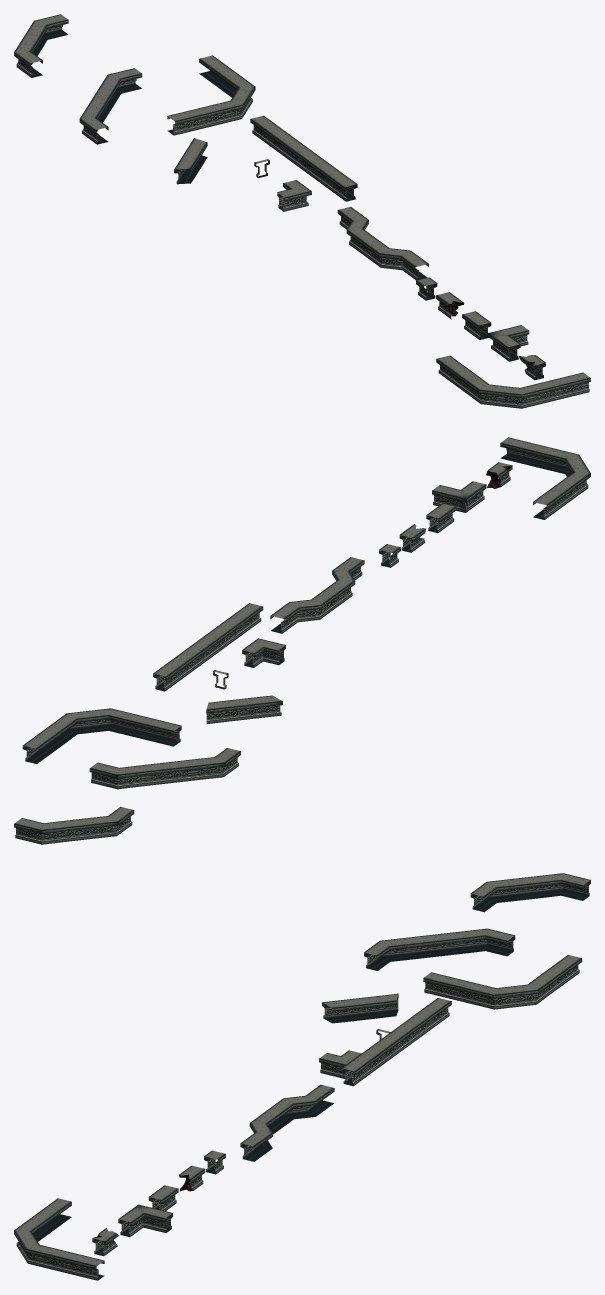
The model's file is EnvMdrMD_Daiseidou_B_GrdLine_A_CoIn_A.FBX.
3 renders of one model, top to bottom at view 1: azimuth 30°, elevation 25°; view 2: azimuth 150°, elevation 25°; view 3: azimuth 330°, elevation 25°, orthographic. The views are drawn at different scales.
Visible parts, largest first — view 1: EnvMdrMD_Daiseidou_B_GrdLine_A_Slant_D_R, EnvMdrMD_Daiseidou_B_GrdLine_A_Slant_D, EnvMdrMD_Daiseidou_B_GrdLine_A_Loop_Spline, EnvMdrMD_Daiseidou_B_GrdLine_A_Slant_E, EnvMdrMD_Daiseidou_B_GrdLine_A_Slant_B, EnvMdrMD_Daiseidou_B_GrdLine_A_Slant_A, EnvMdrMD_Daiseidou_B_GrdLine_A_CoOut_A, EnvMdrMD_Daiseidou_B_GrdLine_A_Slant_C, EnvMdrMD_Daiseidou_B_GrdLine_A_CoIn_A, EnvMdrMD_Daiseidou_B_GrdLine_A_Loop_200W; view 2: EnvMdrMD_Daiseidou_B_GrdLine_A_Slant_D, EnvMdrMD_Daiseidou_B_GrdLine_A_Slant_B, EnvMdrMD_Daiseidou_B_GrdLine_A_Slant_D_R, EnvMdrMD_Daiseidou_B_GrdLine_A_Loop_Spline, EnvMdrMD_Daiseidou_B_GrdLine_A_Slant_A, EnvMdrMD_Daiseidou_B_GrdLine_A_Slant_E, EnvMdrMD_Daiseidou_B_GrdLine_A_Slant_C, EnvMdrMD_Daiseidou_B_GrdLine_A_CoOut_A, EnvMdrMD_Daiseidou_B_GrdLine_A_CoIn_A, EnvMdrMD_Daiseidou_B_GrdLine_A_Loop_200W; view 3: EnvMdrMD_Daiseidou_B_GrdLine_A_Slant_D, EnvMdrMD_Daiseidou_B_GrdLine_A_Slant_B, EnvMdrMD_Daiseidou_B_GrdLine_A_Slant_D_R, EnvMdrMD_Daiseidou_B_GrdLine_A_Loop_Spline, EnvMdrMD_Daiseidou_B_GrdLine_A_Slant_A, EnvMdrMD_Daiseidou_B_GrdLine_A_Slant_E, EnvMdrMD_Daiseidou_B_GrdLine_A_Slant_C, EnvMdrMD_Daiseidou_B_GrdLine_A_CoOut_A, EnvMdrMD_Daiseidou_B_GrdLine_A_CoIn_A, EnvMdrMD_Daiseidou_B_GrdLine_A_Loop_200W.
Boxes of the visible parts, x1,y1,x2,y2 form: EnvMdrMD_Daiseidou_B_GrdLine_A_Slant_D_R: (436,355,590,408); EnvMdrMD_Daiseidou_B_GrdLine_A_Slant_D: (167,55,255,135); EnvMdrMD_Daiseidou_B_GrdLine_A_Loop_Spline: (250,115,357,201); EnvMdrMD_Daiseidou_B_GrdLine_A_Slant_E: (337,207,428,280); EnvMdrMD_Daiseidou_B_GrdLine_A_Slant_B: (79,68,142,144); EnvMdrMD_Daiseidou_B_GrdLine_A_Slant_A: (14,14,68,77); EnvMdrMD_Daiseidou_B_GrdLine_A_CoOut_A: (487,325,529,361); EnvMdrMD_Daiseidou_B_GrdLine_A_Slant_C: (174,138,207,184); EnvMdrMD_Daiseidou_B_GrdLine_A_CoIn_A: (277,180,311,211); EnvMdrMD_Daiseidou_B_GrdLine_A_Loop_200W: (462,311,491,339); EnvMdrMD_Daiseidou_B_GrdLine_A_Slant_D: (22,708,181,763); EnvMdrMD_Daiseidou_B_GrdLine_A_Slant_B: (89,748,240,789); EnvMdrMD_Daiseidou_B_GrdLine_A_Slant_D_R: (500,437,590,519); EnvMdrMD_Daiseidou_B_GrdLine_A_Loop_Spline: (153,603,263,691); EnvMdrMD_Daiseidou_B_GrdLine_A_Slant_A: (14,806,134,844); EnvMdrMD_Daiseidou_B_GrdLine_A_Slant_E: (270,557,364,633); EnvMdrMD_Daiseidou_B_GrdLine_A_Slant_C: (206,695,282,723); EnvMdrMD_Daiseidou_B_GrdLine_A_CoOut_A: (432,481,486,512); EnvMdrMD_Daiseidou_B_GrdLine_A_CoIn_A: (242,638,285,667); EnvMdrMD_Daiseidou_B_GrdLine_A_Loop_200W: (426,503,456,533); EnvMdrMD_Daiseidou_B_GrdLine_A_Slant_D: (423,955,582,1009); EnvMdrMD_Daiseidou_B_GrdLine_A_Slant_B: (364,928,515,970); EnvMdrMD_Daiseidou_B_GrdLine_A_Slant_D_R: (14,1198,104,1280); EnvMdrMD_Daiseidou_B_GrdLine_A_Loop_Spline: (341,998,451,1086); EnvMdrMD_Daiseidou_B_GrdLine_A_Slant_A: (470,873,590,912); EnvMdrMD_Daiseidou_B_GrdLine_A_Slant_E: (240,1084,334,1161); EnvMdrMD_Daiseidou_B_GrdLine_A_Slant_C: (322,993,398,1023); EnvMdrMD_Daiseidou_B_GrdLine_A_CoOut_A: (118,1204,172,1237); EnvMdrMD_Daiseidou_B_GrdLine_A_CoIn_A: (319,1050,361,1078); EnvMdrMD_Daiseidou_B_GrdLine_A_Loop_200W: (148,1185,178,1210).
Bounding box in the file's own units: 1222 × 205 × 6480.
